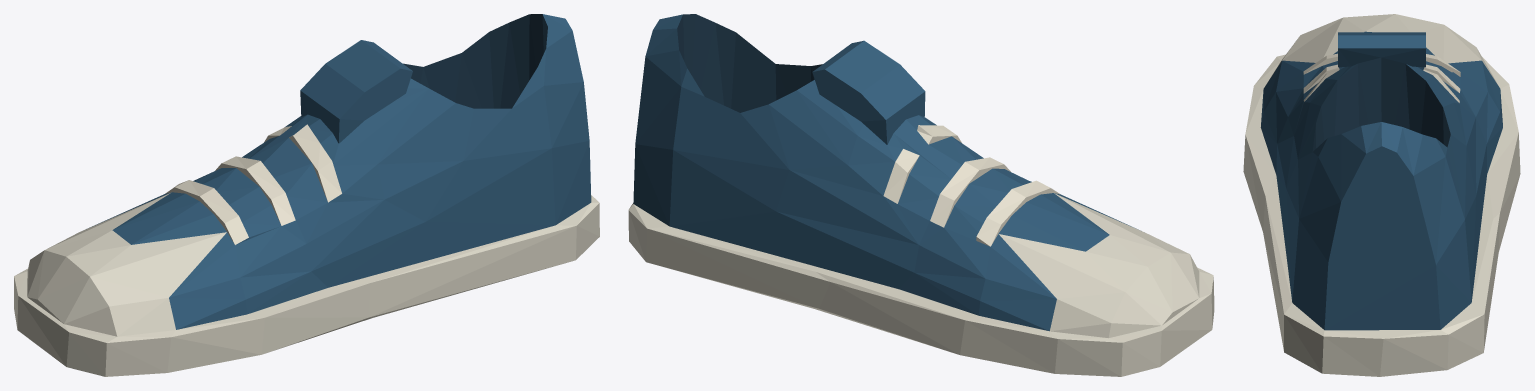
Rendered from sneaker-simple-trial.glb.
3 views of the same model, side by side, from view 1: azimuth 30°, elevation 25°; view 2: azimuth 150°, elevation 25°; view 3: azimuth 270°, elevation 25° (orthographic). The views are drawn at different scales.
Parts seen in each view (by area): view 1: Sneaker simple; view 2: Sneaker simple; view 3: Sneaker simple.
Part boxes in pixels (x1=…): Sneaker simple: x1=14, y1=14, x2=599, y2=376; Sneaker simple: x1=628, y1=14, x2=1214, y2=376; Sneaker simple: x1=1243, y1=14, x2=1520, y2=376.
Size of the model in its own units: 0.3 by 0.1136 by 0.12.
